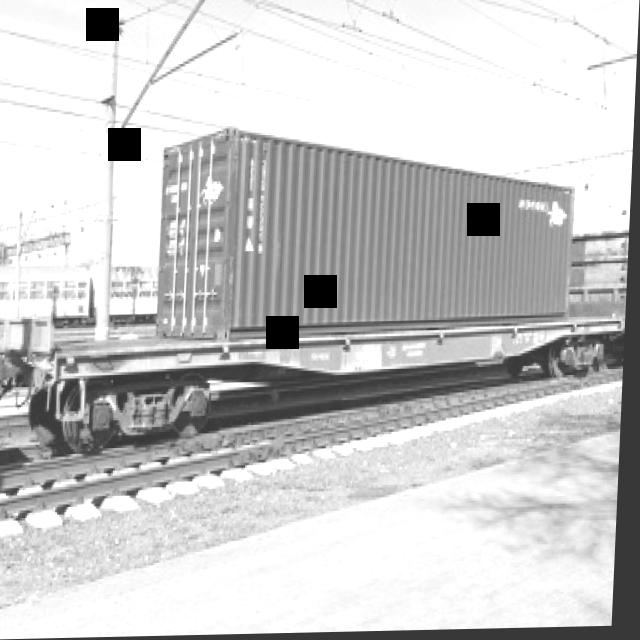container: (149, 109, 590, 336)
flatcar: (0, 312, 629, 461)
